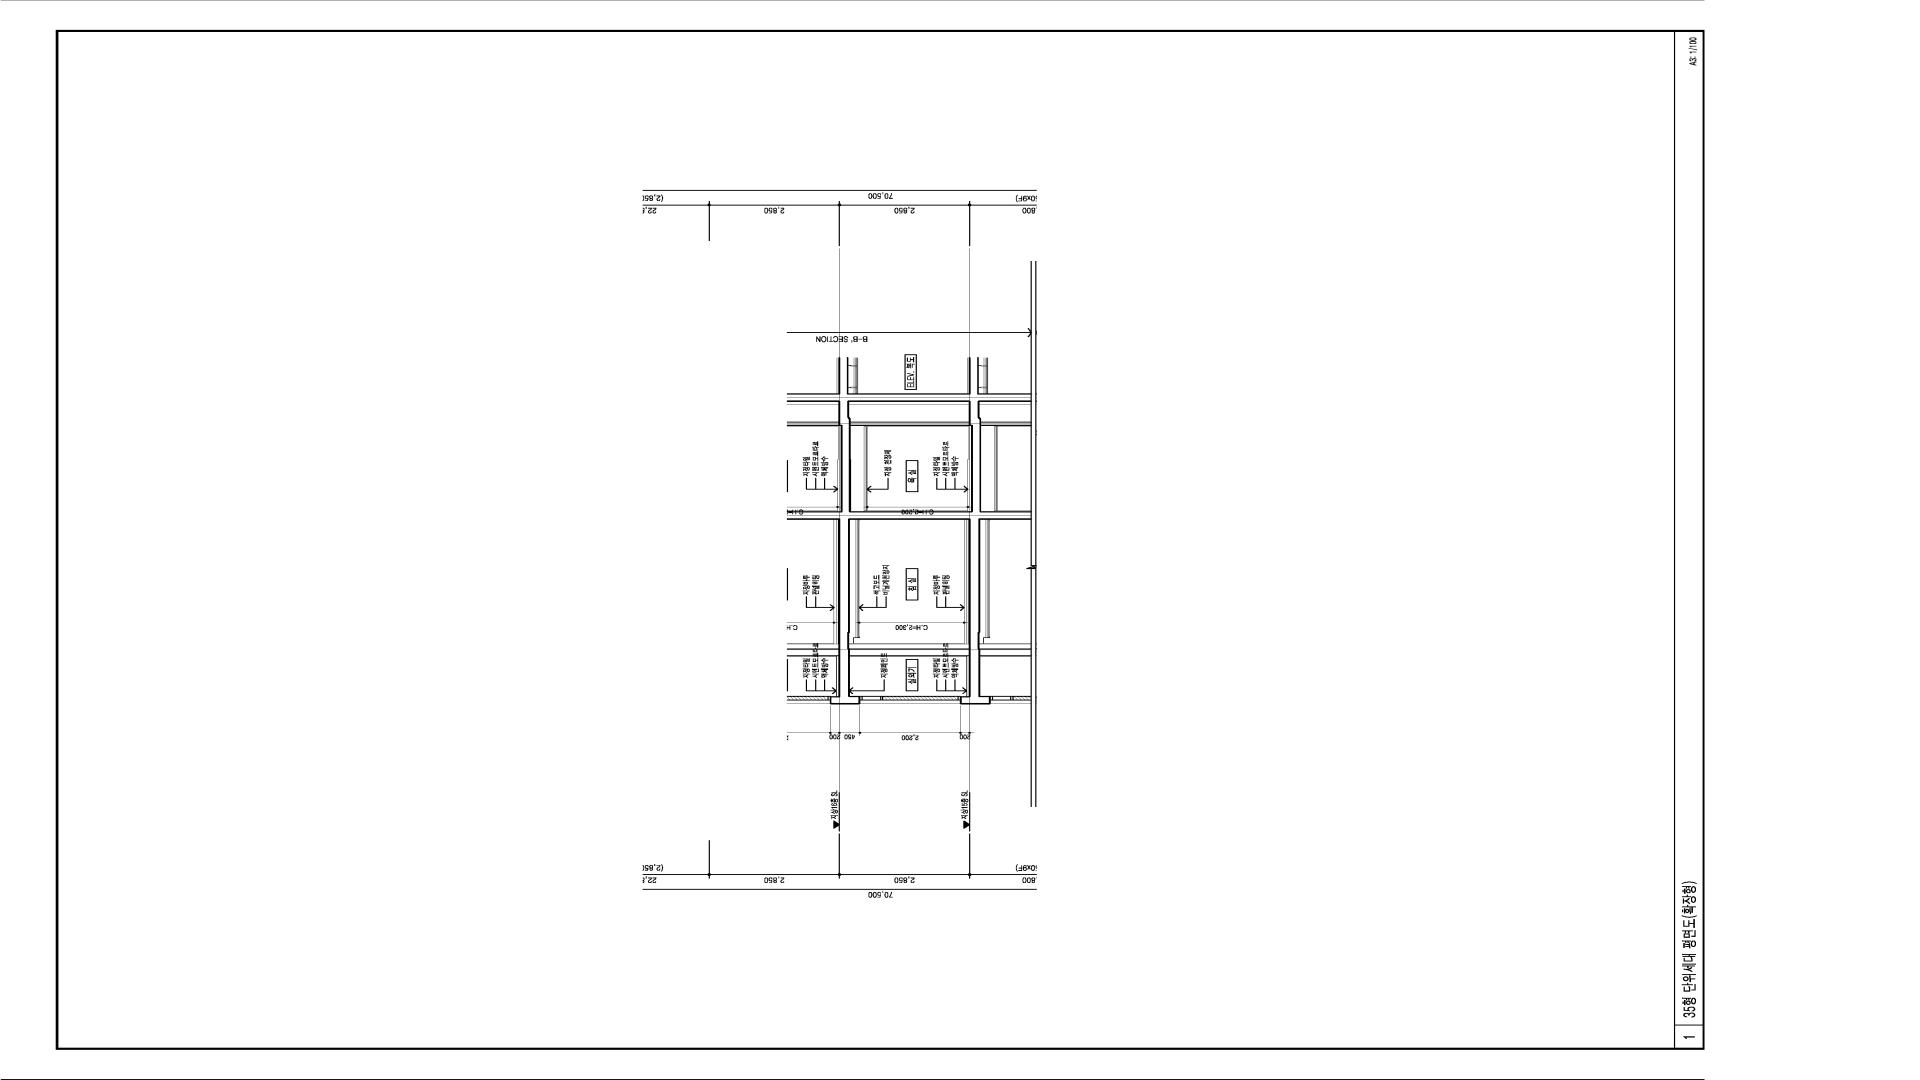background: (0, 0, 1920, 1080)
wall: (838, 357, 981, 705), (849, 402, 971, 511), (850, 648, 969, 657), (882, 696, 960, 704), (851, 422, 969, 426)
window: (860, 696, 882, 704)
